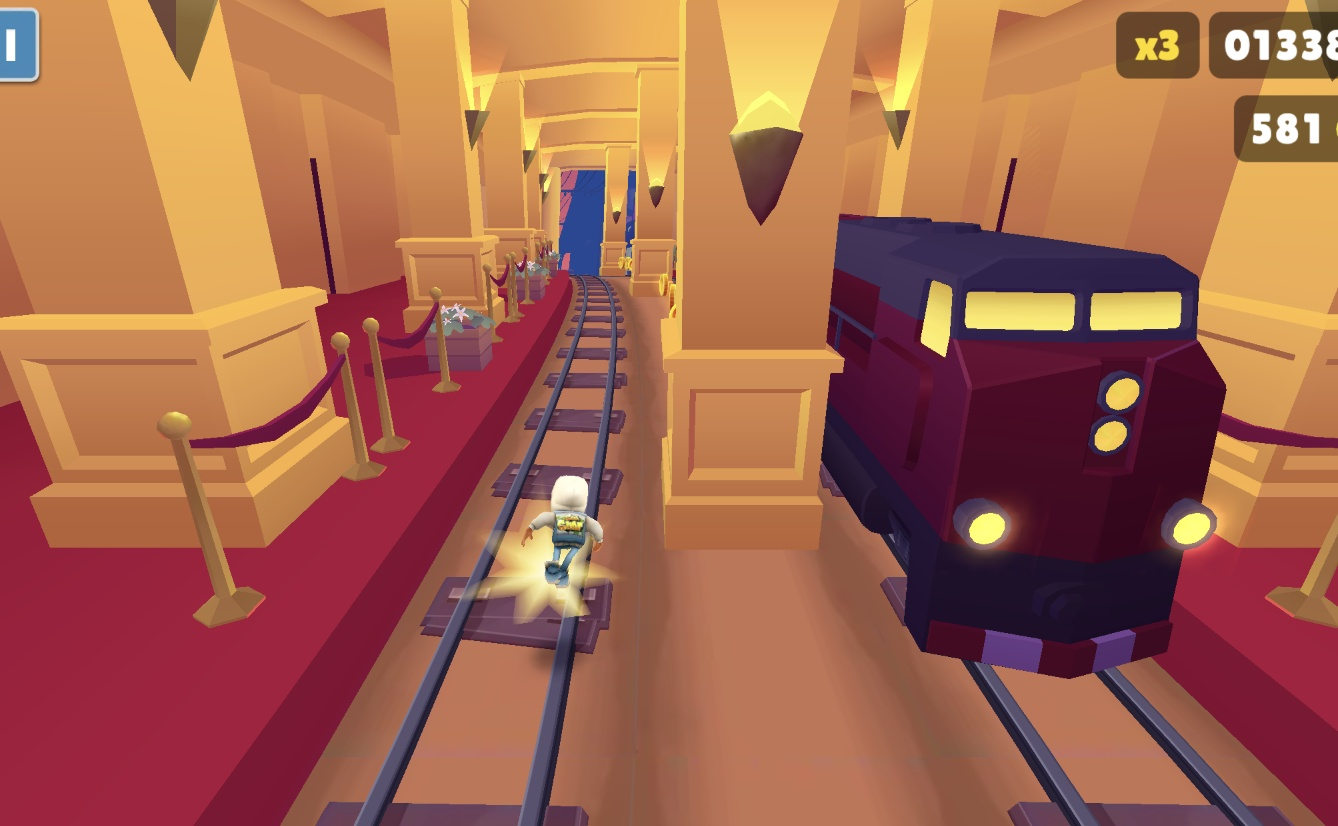pillar: (659, 0, 854, 554)
train: (821, 215, 1221, 684)
